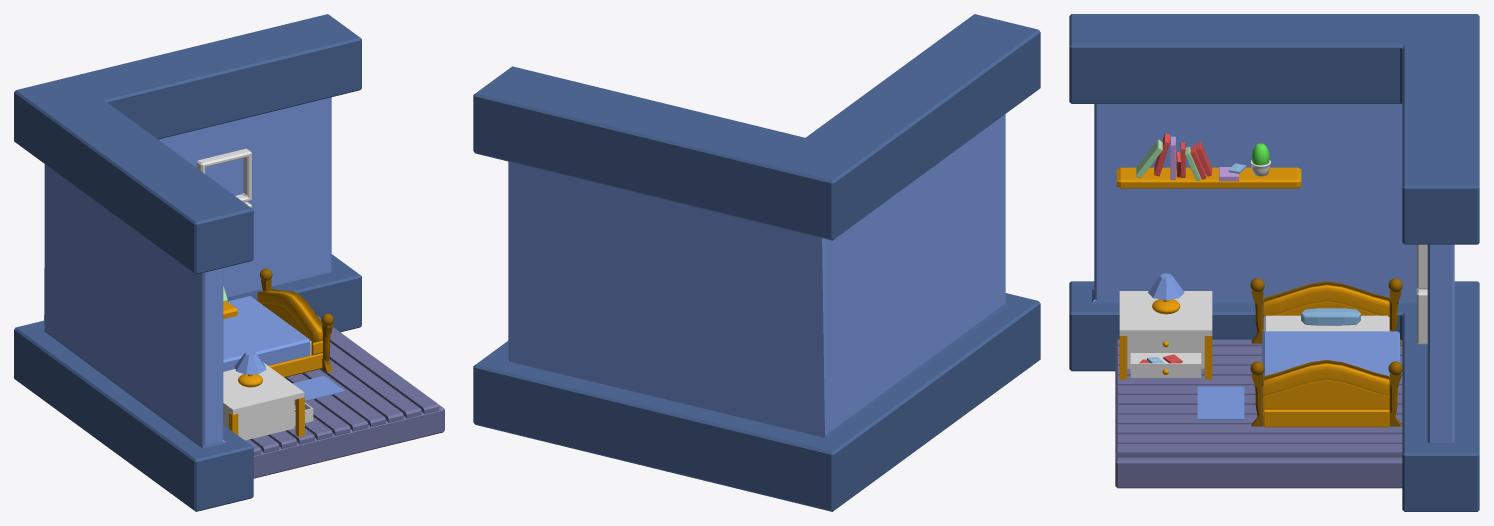
File: isometric room.glb
3 views of the same model, side by side, from view 1: azimuth 30°, elevation 25°; view 2: azimuth 150°, elevation 25°; view 3: azimuth 270°, elevation 25° (orthographic). The views are drawn at different scales.
Visible parts, largest first — view 1: tuong, san, nen, Cube, nem1.002, nem3, tranh2, nem1, cau, Plane.001, Cube.001, nem2 (+1 smaller); view 2: tuong; view 3: tuong, san, nen, Cube, nem3, nem1.002, nem2, ke, cau, nem1, Plane.001, nem1.001 (+5 smaller).
Part boxes in pixels (bbox=[...]): tuong: bbox=[14, 14, 361, 511]; san: bbox=[245, 315, 439, 455]; nen: bbox=[253, 405, 444, 478]; Cube: bbox=[223, 362, 313, 440]; nem1.002: bbox=[223, 296, 310, 371]; nem3: bbox=[257, 289, 322, 342]; tranh2: bbox=[196, 148, 251, 202]; nem1: bbox=[269, 353, 322, 377]; cau: bbox=[260, 268, 333, 372]; Plane.001: bbox=[292, 375, 344, 401]; Cube.001: bbox=[229, 397, 304, 436]; nem2: bbox=[261, 303, 322, 355]; tuong: bbox=[473, 14, 1040, 511]; tuong: bbox=[1069, 14, 1479, 511]; san: bbox=[1115, 339, 1402, 458]; nen: bbox=[1115, 457, 1402, 488]; Cube: bbox=[1119, 291, 1212, 377]; nem3: bbox=[1263, 281, 1389, 395]; nem1.002: bbox=[1262, 331, 1399, 381]; nem2: bbox=[1263, 301, 1389, 409]; ke: bbox=[1116, 167, 1301, 188]; cau: bbox=[1250, 278, 1402, 426]; nem1: bbox=[1263, 409, 1389, 427]; Plane.001: bbox=[1197, 386, 1244, 420]; nem1.001: bbox=[1263, 315, 1389, 331].
Size of the model in its own units: 2.66 by 2.34 by 2.66.
